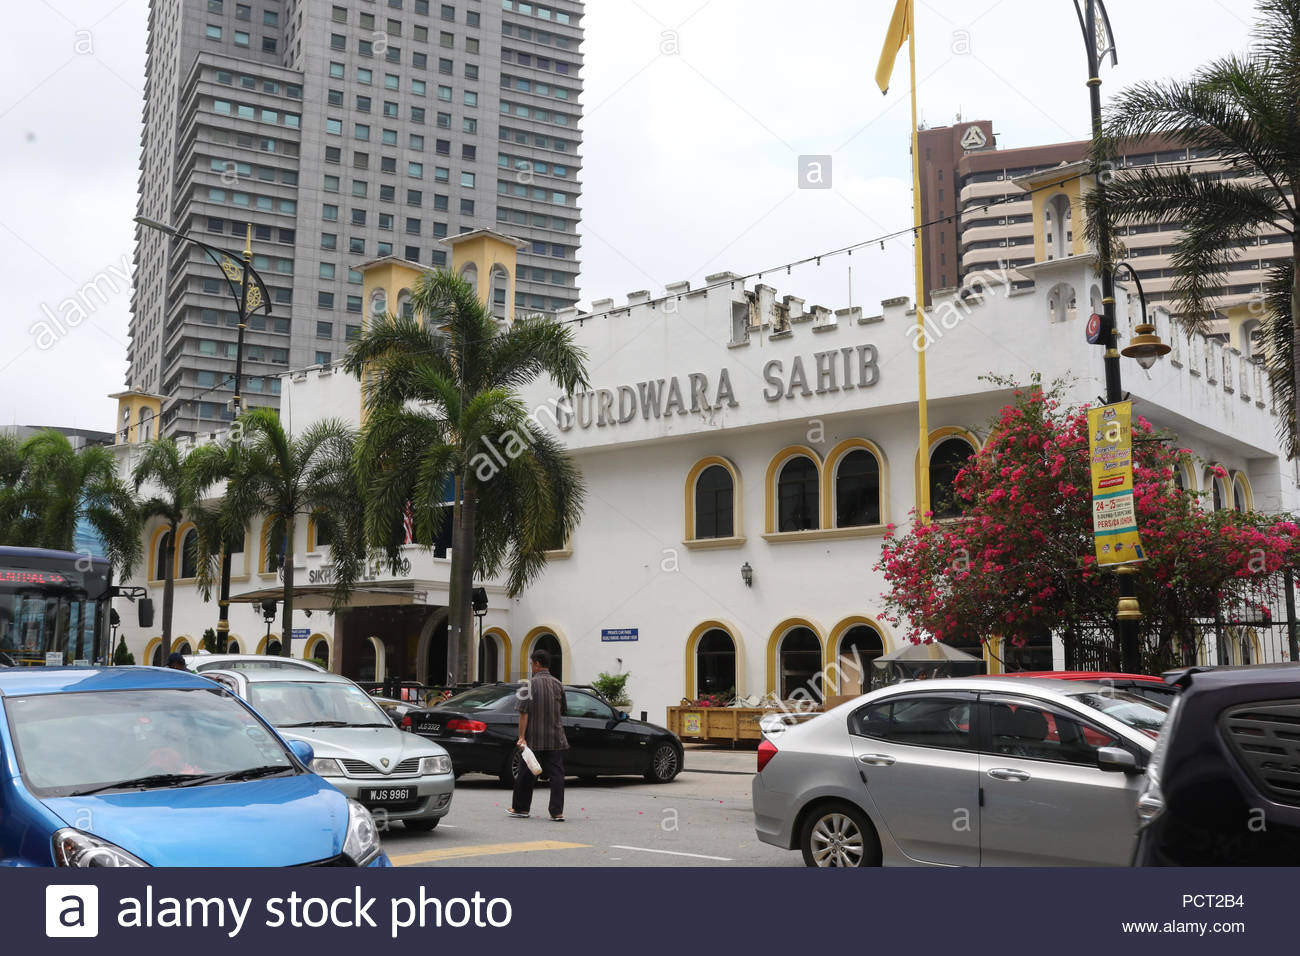Gurdwara: (115, 234, 1030, 656)
